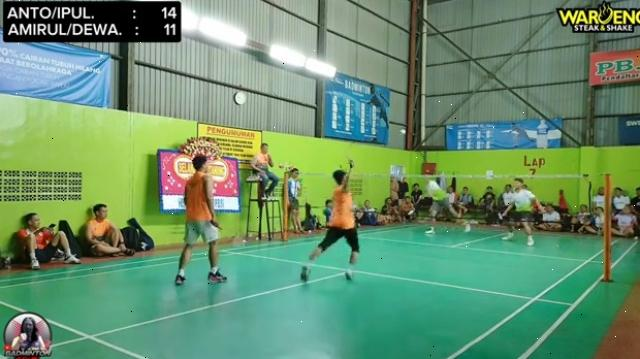Shuttlecock: (398, 128, 409, 138)
